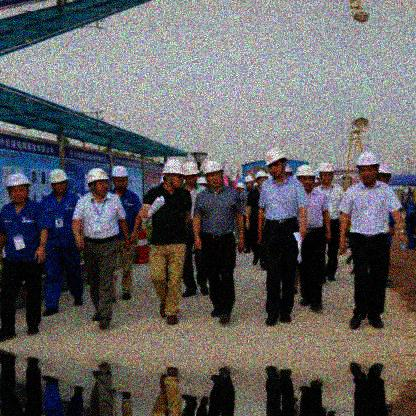helmet: (5, 173, 32, 203), (358, 153, 381, 186), (266, 149, 288, 179), (86, 167, 108, 196), (163, 161, 184, 191), (204, 162, 225, 190), (295, 165, 315, 192), (49, 169, 68, 195), (112, 166, 129, 192), (186, 162, 200, 188), (319, 163, 334, 186), (381, 166, 392, 183), (256, 171, 267, 186), (245, 174, 254, 188), (236, 182, 245, 194)
